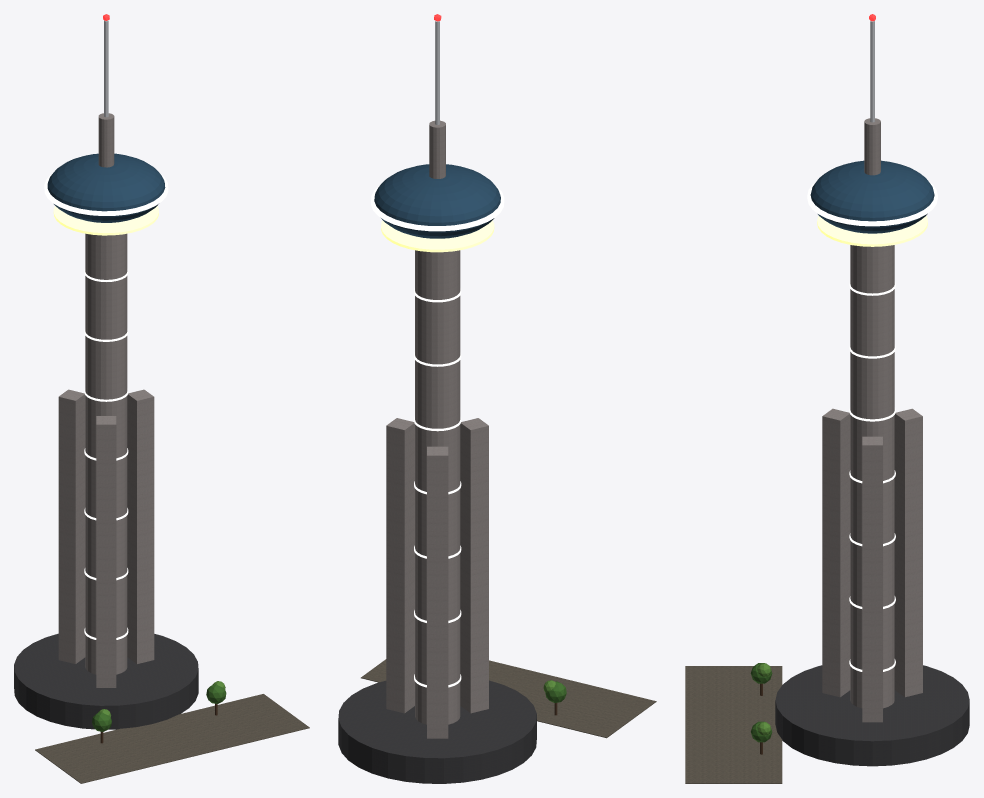
The model's file is OT_Landmark_Tower.glb.
The picture shows the model from 3 angles, left to right: view 1: azimuth 30°, elevation 25°; view 2: azimuth 150°, elevation 25°; view 3: azimuth 270°, elevation 25°; orthographic projection. The views are drawn at different scales.
Parts seen in each view (by area): view 1: OT_Landmark_Tower_Concrete, OT_Landmark_Tower_Granite, OT_Landmark_Tower_Pavement, OT_Landmark_Tower_CurtainGlass__2b4d66, OT_Landmark_Tower_LEDStrip__e8f2ff, OT_Landmark_Tower_GoldGlow__ffd27a, OT_Landmark_Tower_Leaf__3f6e2c; view 2: OT_Landmark_Tower_Concrete, OT_Landmark_Tower_Granite, OT_Landmark_Tower_CurtainGlass__2b4d66, OT_Landmark_Tower_Pavement, OT_Landmark_Tower_LEDStrip__e8f2ff, OT_Landmark_Tower_GoldGlow__ffd27a; view 3: OT_Landmark_Tower_Concrete, OT_Landmark_Tower_Granite, OT_Landmark_Tower_Pavement, OT_Landmark_Tower_CurtainGlass__2b4d66, OT_Landmark_Tower_LEDStrip__e8f2ff, OT_Landmark_Tower_GoldGlow__ffd27a, OT_Landmark_Tower_Antenna__c9ccd1.
Part boxes in pixels (x1,y1,x2,y2): OT_Landmark_Tower_Concrete: (58, 113, 154, 687); OT_Landmark_Tower_Granite: (14, 633, 198, 729); OT_Landmark_Tower_Pavement: (35, 694, 309, 783); OT_Landmark_Tower_CurtainGlass__2b4d66: (47, 153, 165, 222); OT_Landmark_Tower_LEDStrip__e8f2ff: (44, 173, 168, 639); OT_Landmark_Tower_GoldGlow__ffd27a: (53, 206, 158, 235); OT_Landmark_Tower_Leaf__3f6e2c: (92, 684, 226, 731); OT_Landmark_Tower_Concrete: (386, 120, 488, 738); OT_Landmark_Tower_Granite: (338, 680, 536, 783); OT_Landmark_Tower_CurtainGlass__2b4d66: (374, 164, 500, 238); OT_Landmark_Tower_Pavement: (361, 659, 656, 738); OT_Landmark_Tower_LEDStrip__e8f2ff: (371, 185, 504, 687); OT_Landmark_Tower_GoldGlow__ffd27a: (381, 220, 494, 252); OT_Landmark_Tower_Concrete: (822, 118, 922, 722); OT_Landmark_Tower_Granite: (775, 665, 969, 766); OT_Landmark_Tower_Pavement: (685, 666, 782, 783); OT_Landmark_Tower_CurtainGlass__2b4d66: (810, 160, 934, 233); OT_Landmark_Tower_LEDStrip__e8f2ff: (807, 181, 937, 671); OT_Landmark_Tower_GoldGlow__ffd27a: (817, 215, 927, 246); OT_Landmark_Tower_Antenna__c9ccd1: (870, 21, 874, 122).
Size of the model in its own units: 40 by 113 by 41.
11 materials, 3 textured.
